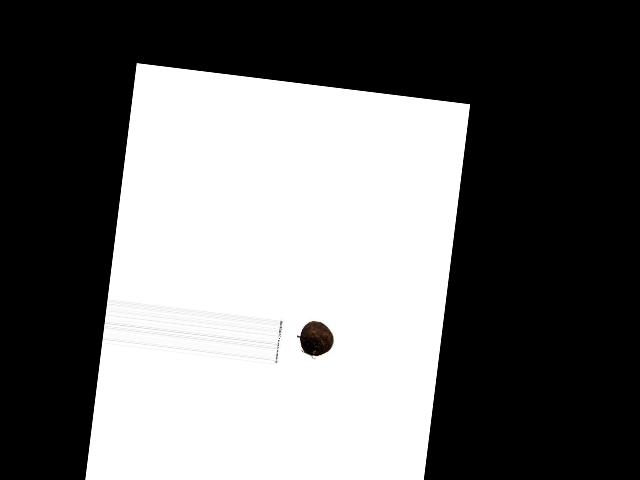beet: (298, 318, 335, 356)
